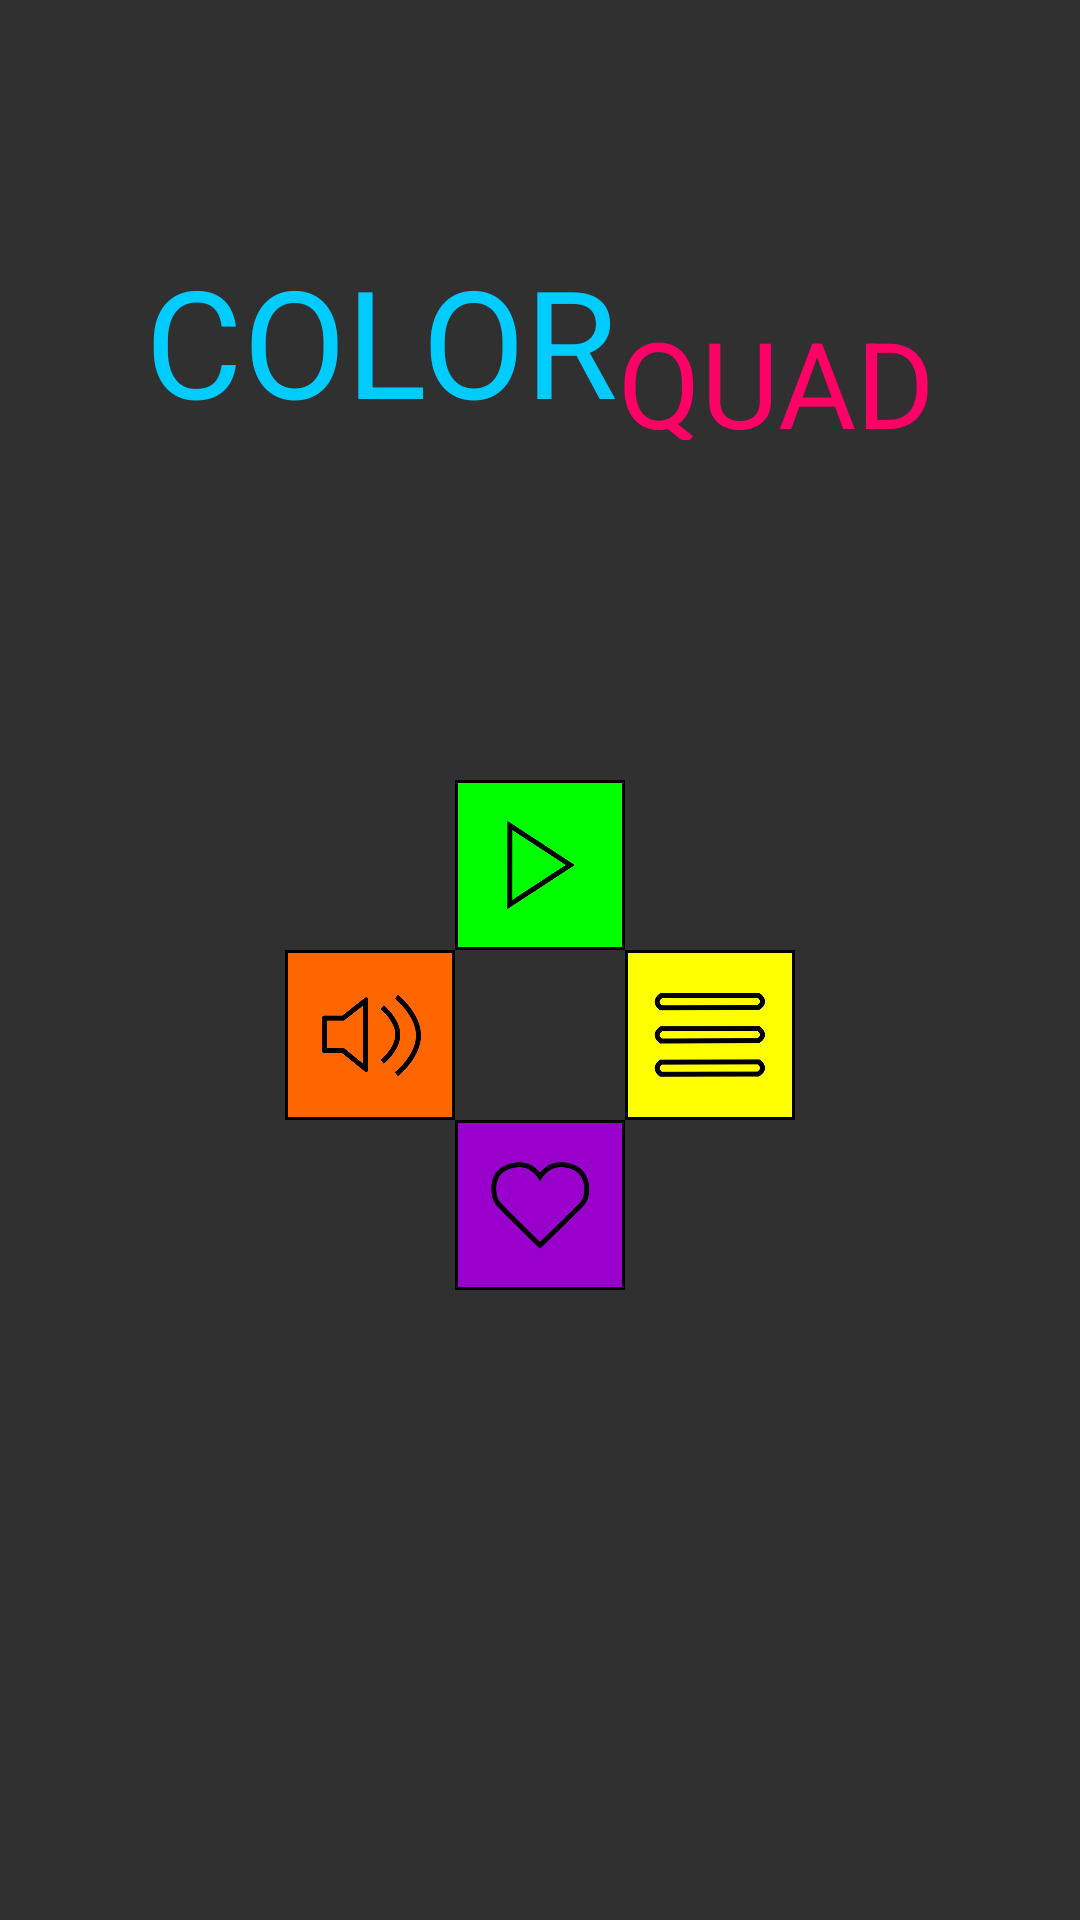

Icon bounding boxes for this 1080 × 1920 phone screenshot, format (left=x1, top=y1, right=x2, bottom=y2):
levels: (left=625, top=950, right=795, bottom=1120)
love: (left=455, top=1120, right=625, bottom=1290)
play: (left=455, top=780, right=625, bottom=950)
sound: (left=285, top=950, right=455, bottom=1120)
